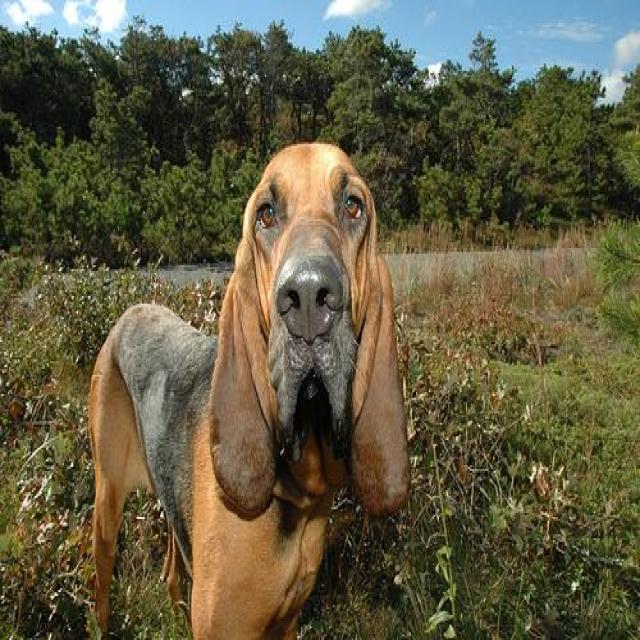bloodhound: (79, 137, 411, 636)
